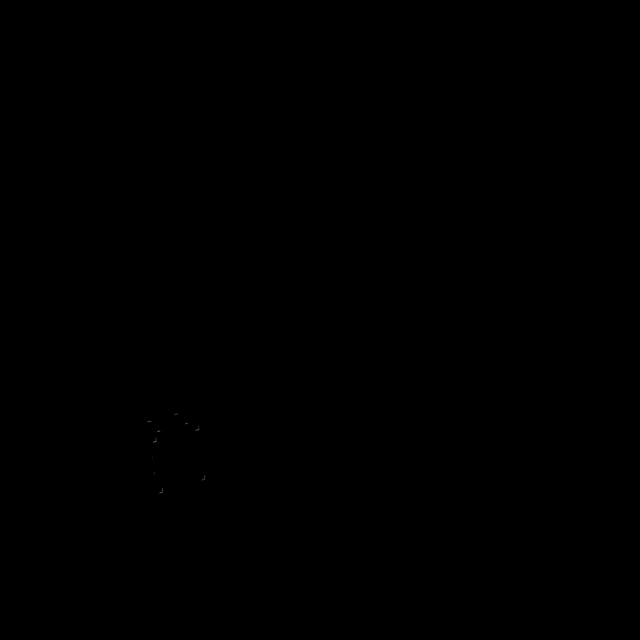medium_debris: (133, 400, 211, 500)
